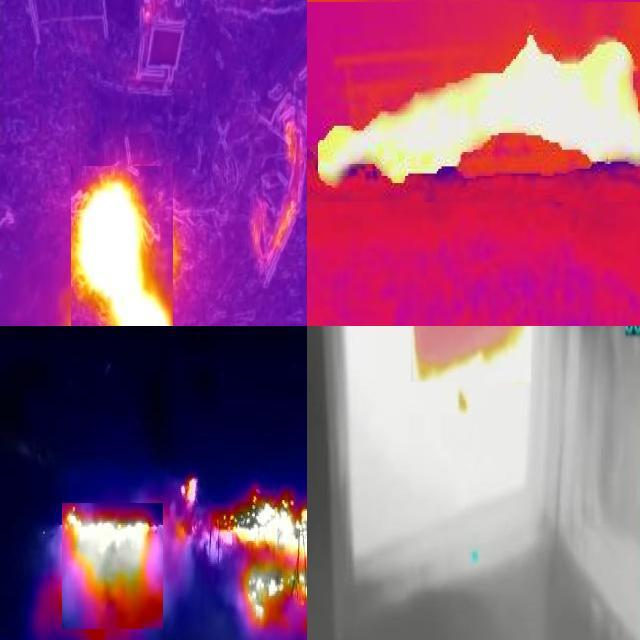fire: (308, 31, 640, 202), (178, 470, 308, 630), (71, 166, 173, 327), (62, 503, 163, 629), (411, 327, 531, 382)
